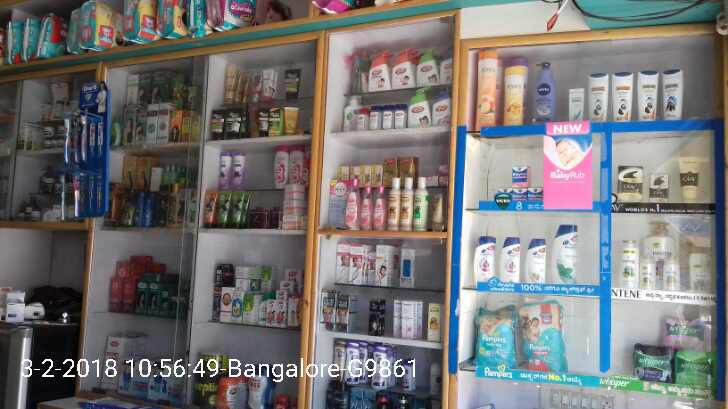beauty: (547, 220, 581, 286), (470, 231, 498, 288), (617, 163, 645, 204), (499, 236, 523, 283), (677, 149, 697, 204), (525, 237, 545, 279), (646, 173, 671, 204), (621, 240, 638, 284), (640, 258, 661, 291), (661, 259, 682, 291)
pharmacy: (514, 296, 570, 373), (471, 301, 514, 367), (656, 315, 710, 352), (633, 342, 675, 386), (675, 354, 717, 394), (509, 161, 534, 189)
